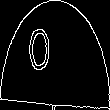O_S: (43, 28, 67, 82)
